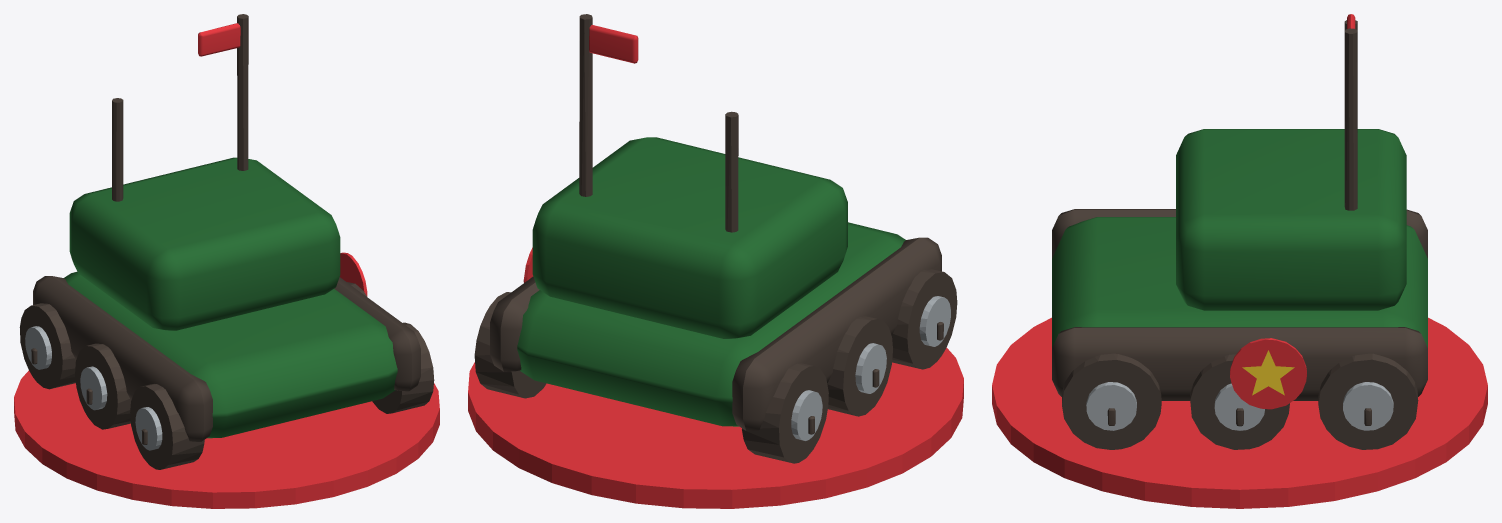
The model's file is vietnam_commander_lod0.glb.
The picture shows the model from 3 angles, left to right: view 1: azimuth 30°, elevation 25°; view 2: azimuth 150°, elevation 25°; view 3: azimuth 270°, elevation 25°; orthographic projection. The views are drawn at different scales.
Parts seen in each view (by area): view 1: body_hull, base_pedestal; view 2: body_hull, base_pedestal; view 3: body_hull, base_pedestal.
Part boxes in pixels (x1=…): body_hull: x1=19, y1=14, x2=434, y2=469; base_pedestal: x1=14, y1=370, x2=439, y2=508; body_hull: x1=474, y1=14, x2=957, y2=463; base_pedestal: x1=468, y1=347, x2=963, y2=508; body_hull: x1=1052, y1=14, x2=1427, y2=449; base_pedestal: x1=992, y1=317, x2=1487, y2=508.
Bounding box in the file's own units: 0.78 × 0.7101 × 0.78.
